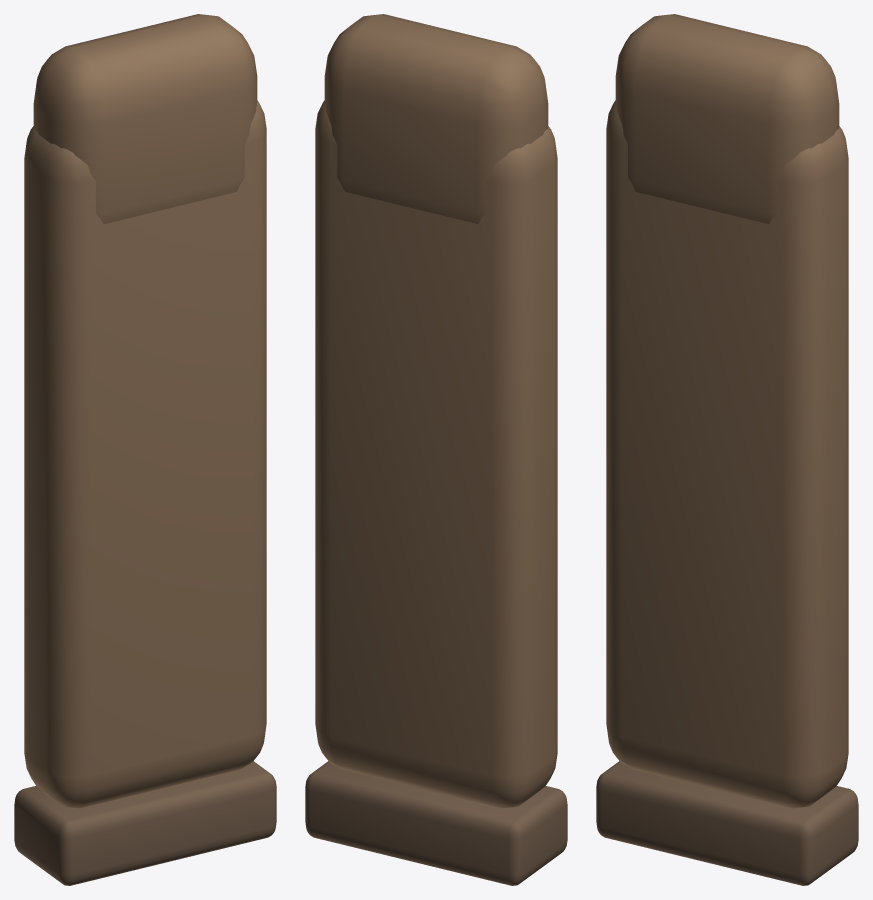
Rendered from recliner_back.glb.
The picture shows the model from 3 angles, left to right: view 1: azimuth 30°, elevation 25°; view 2: azimuth 150°, elevation 25°; view 3: azimuth 330°, elevation 25°; orthographic projection.
Parts seen in each view (by area): view 1: Cube.004, Cube.005, Cube.003; view 2: Cube.004, Cube.005, Cube.003; view 3: Cube.004, Cube.005, Cube.003.
Boxes of the visible parts, x1,y1,x2,y2 form: Cube.004: [24, 100, 266, 808]; Cube.005: [33, 14, 257, 224]; Cube.003: [14, 761, 276, 885]; Cube.004: [315, 100, 557, 808]; Cube.005: [324, 14, 548, 223]; Cube.003: [305, 761, 567, 885]; Cube.004: [606, 100, 848, 808]; Cube.005: [615, 14, 839, 224]; Cube.003: [596, 761, 858, 885].
Bounding box in the file's own units: 14 × 50 × 6.
